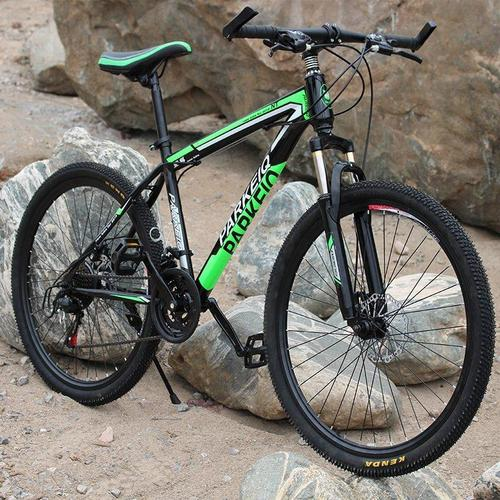单车: (6, 10, 500, 484)
